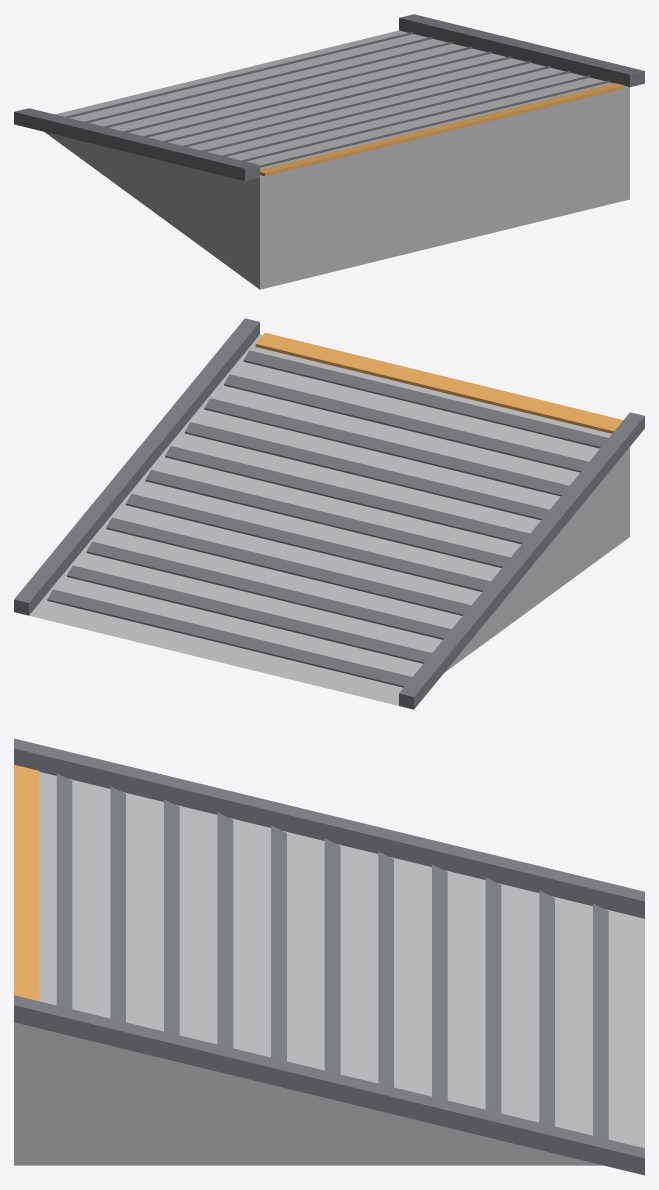
File: modular-greybox-architecture-kit-floor-slope-15-f7418edf__22844.glb
3 renders of one model, top to bottom at view 1: azimuth 30°, elevation 25°; view 2: azimuth 150°, elevation 25°; view 3: azimuth 270°, elevation 25°, orthographic. The views are drawn at different scales.
Visible parts, largest first — view 1: floor-slope-15; view 2: floor-slope-15; view 3: floor-slope-15.
Boxes of the visible parts, bbox=[...] form: floor-slope-15: bbox=[14, 14, 644, 289]; floor-slope-15: bbox=[14, 318, 644, 709]; floor-slope-15: bbox=[14, 738, 644, 1175].
Bounding box in the file's own units: 4 × 1.19 × 4.
